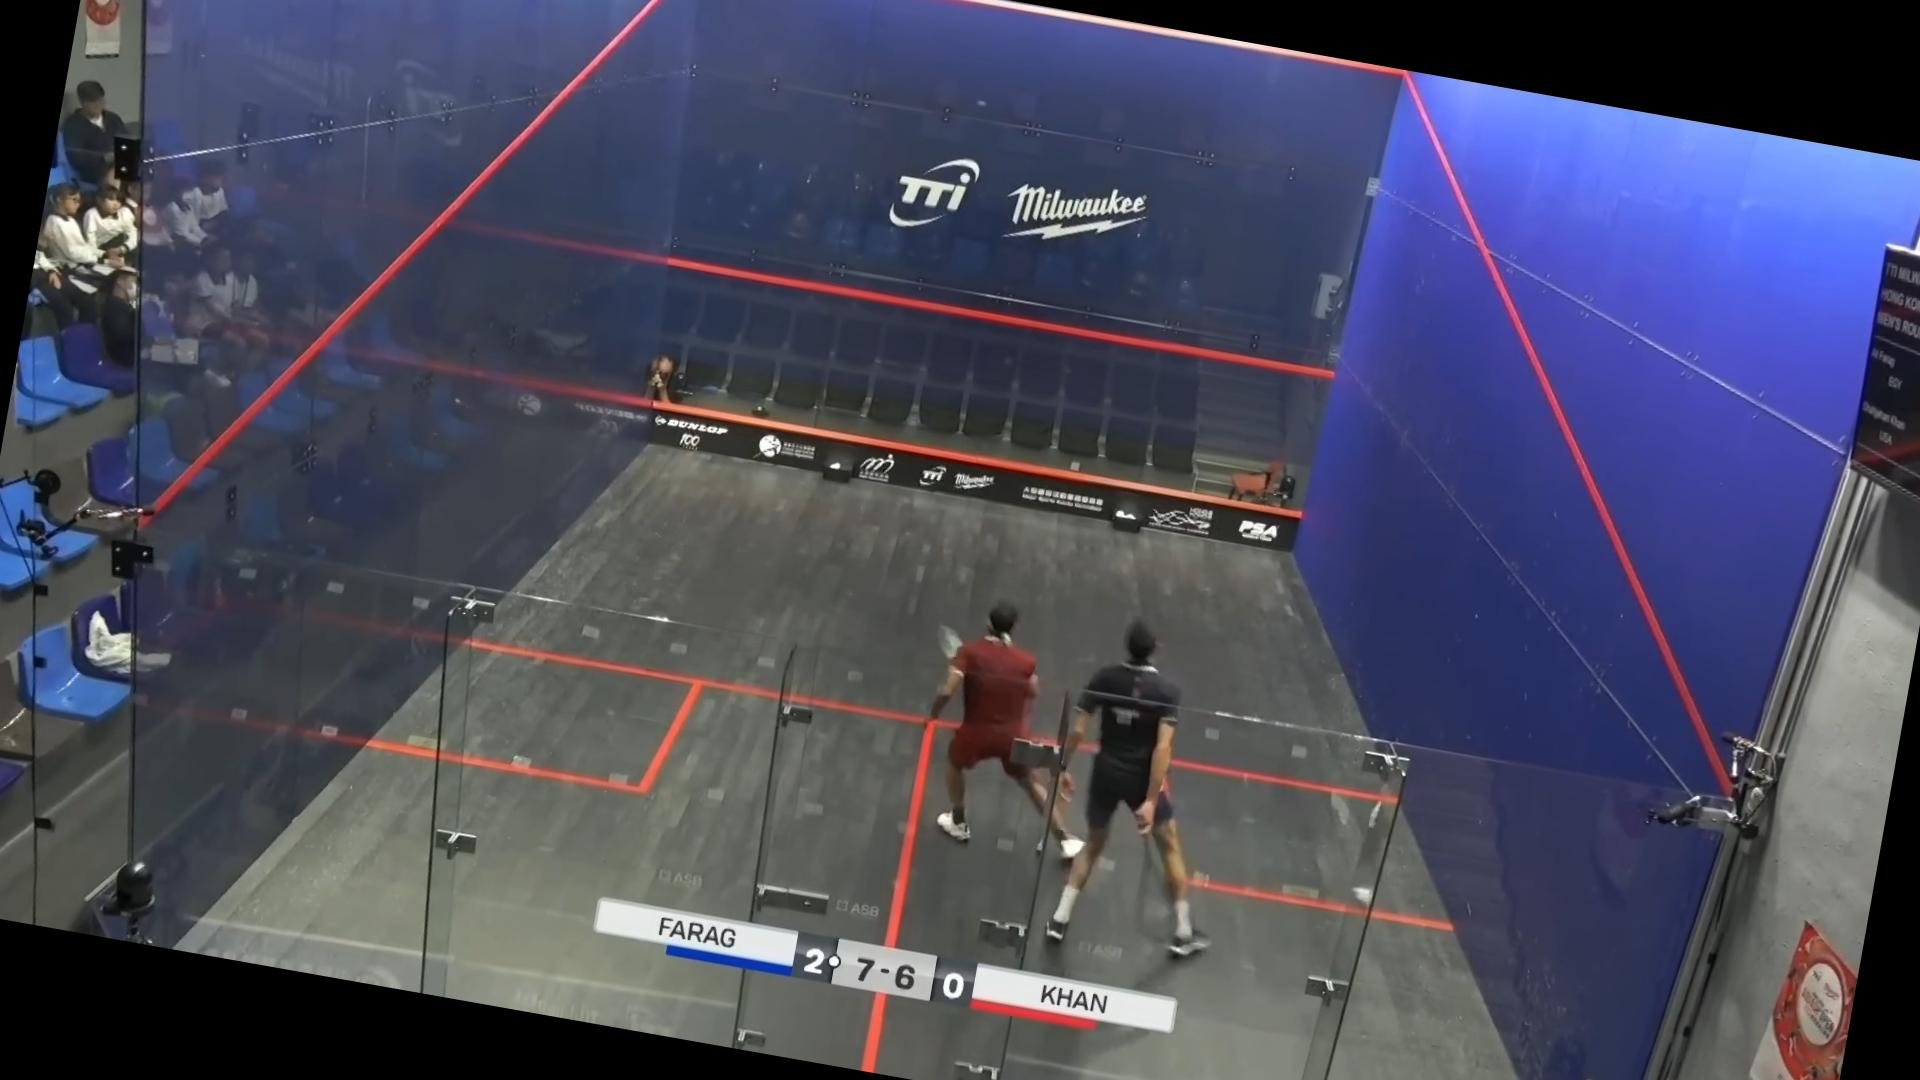Racket: (1121, 828, 1196, 955)
